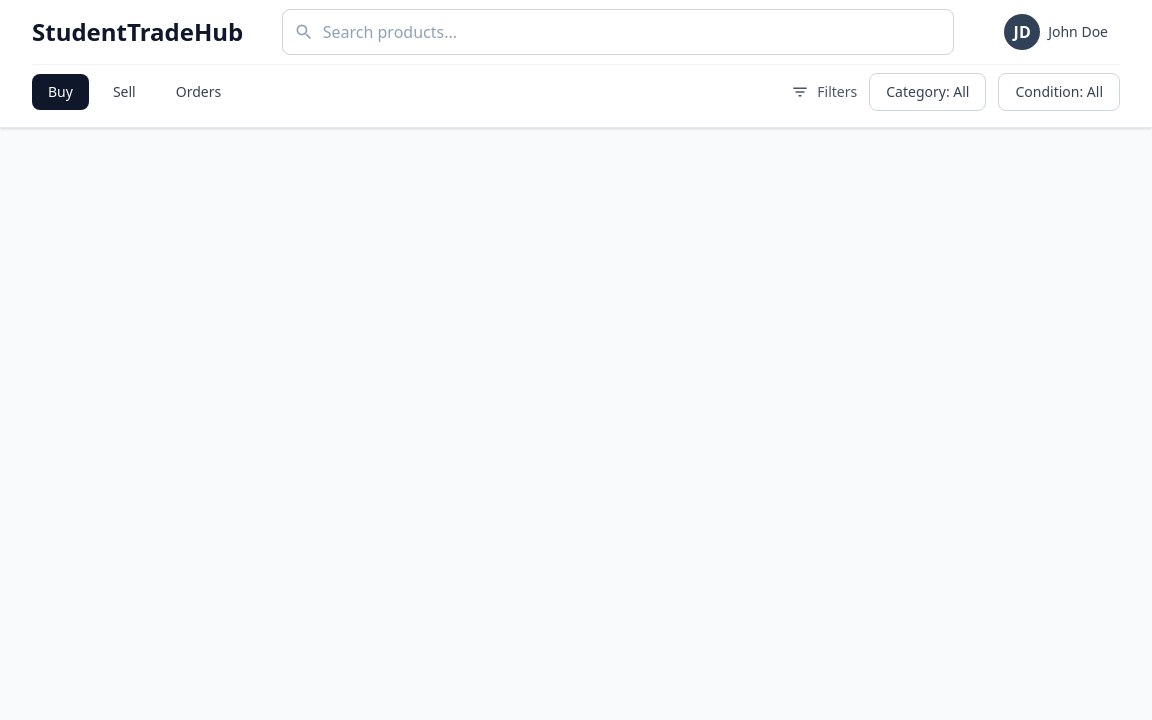
Test: Navbar Component › Filter Dropdowns › opens category filter when clicked
This screenshot has width=1152, height=720.
Click the button "Category: All": {"x": 928, "y": 92} [869, 73, 986, 111]
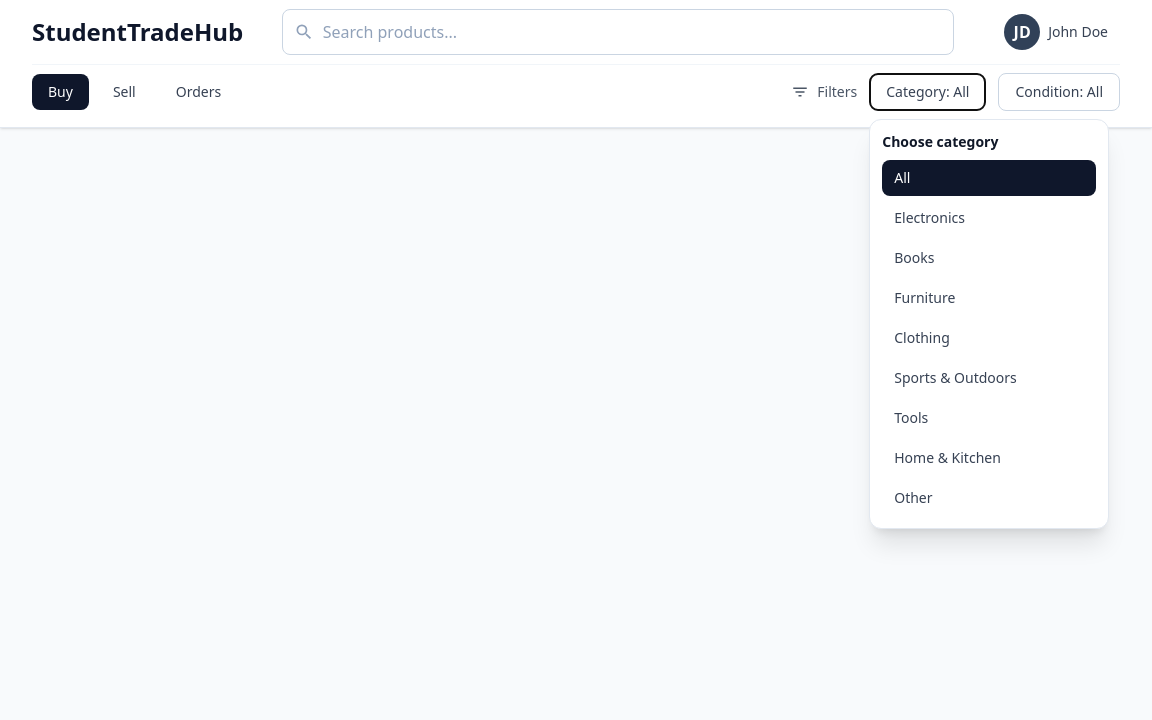
Check: the heading "Choose category" is shown, box [882, 132, 998, 151]
Check: the button "Electronics" is shown, box [882, 200, 1096, 236]
Check: the button "Books" is shown, box [882, 240, 1096, 276]
